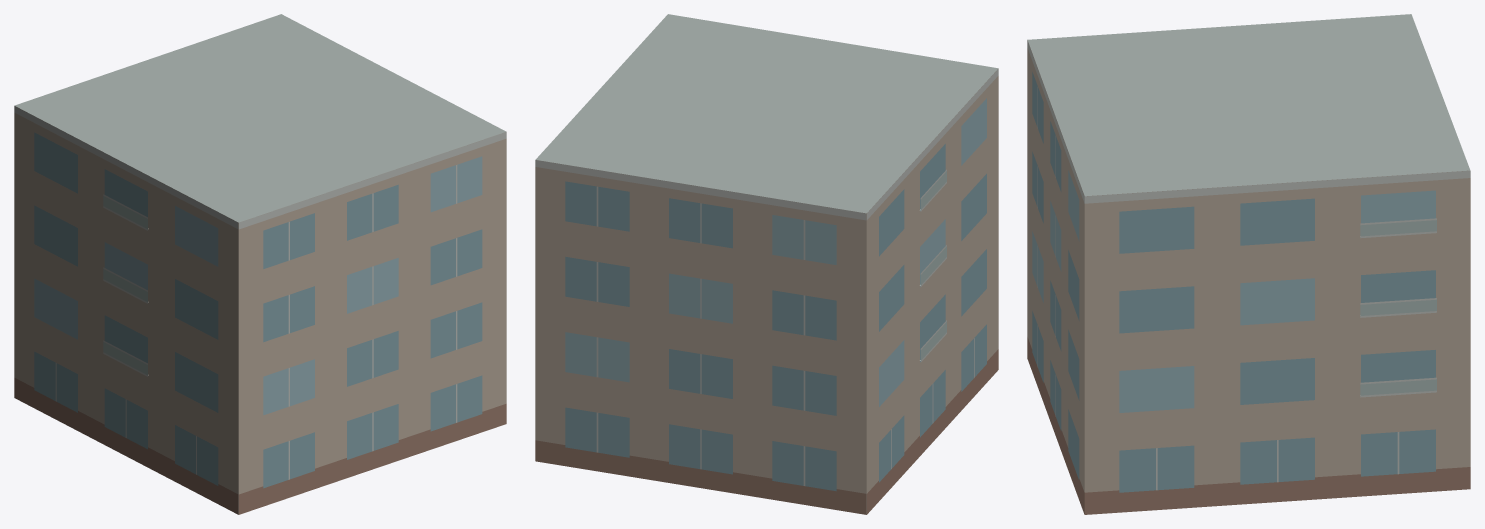
The model's file is survey-upis-32989607.glb.
The picture shows the model from 3 angles, left to right: view 1: azimuth 30°, elevation 25°; view 2: azimuth 150°, elevation 25°; view 3: azimuth 270°, elevation 25°; orthographic projection. The views are drawn at different scales.
Parts seen in each view (by area): view 1: survey-upis-32989607.tmp; view 2: survey-upis-32989607.tmp; view 3: survey-upis-32989607.tmp.
Part boxes in pixels (bbox=[...]): survey-upis-32989607.tmp: bbox=[14, 14, 506, 514]; survey-upis-32989607.tmp: bbox=[535, 14, 998, 514]; survey-upis-32989607.tmp: bbox=[1027, 14, 1470, 514].
Bounding box in the file's own units: 12.77 × 10.4 × 13.12.
